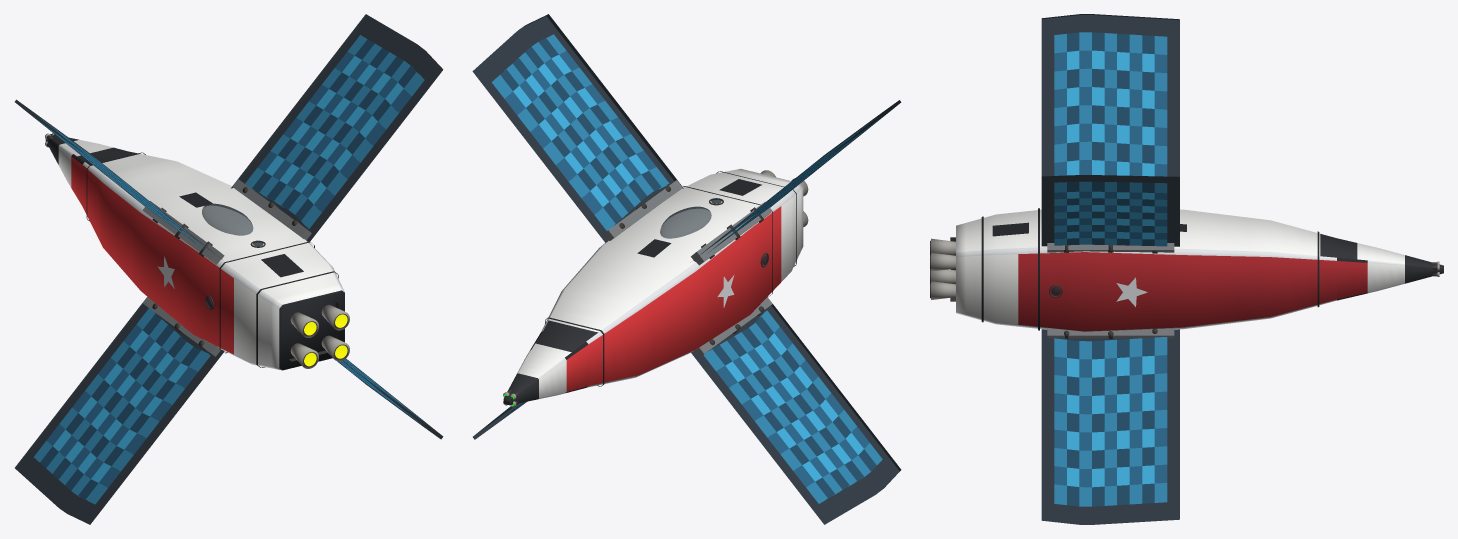
File: Ship_Crosspanel_5.glb
The picture shows the model from 3 angles, left to right: view 1: azimuth 30°, elevation 25°; view 2: azimuth 150°, elevation 25°; view 3: azimuth 270°, elevation 25°; orthographic projection. The views are drawn at different scales.
Parts seen in each view (by area): view 1: Fuselage_SquareBody, SolarPanelWing_TopRightRidge_RectangularPhotovoltaicGrid, SolarPanelWing_LowerLeftRidge_RectangularPhotovoltaicGrid, Nose_SquareTaperedForwardSection, SolarPanelWing_TopLeftRidge_RectangularPhotovoltaicGrid, Canopy_DorsalLowSquareBubble, SolarPanelWing_TopLeftRidge_RootHingeClamp, SolarPanelWing_TopRightRidge_RootHingeClamp, SolarPanelWing_LowerRightRidge_RectangularPhotovoltaicGrid, SolarPanelWing_LowerLeftRidge_RootHingeClamp, HullAccessPanel_TopAft, EngineEmitter; view 2: Fuselage_SquareBody, SolarPanelWing_TopRightRidge_RectangularPhotovoltaicGrid, SolarPanelWing_LowerLeftRidge_RectangularPhotovoltaicGrid, Nose_SquareTaperedForwardSection, SolarPanelWing_TopLeftRidge_RectangularPhotovoltaicGrid, Canopy_DorsalLowSquareBubble, SolarPanelWing_TopLeftRidge_RootHingeClamp, SolarPanelWing_TopRightRidge_RootHingeClamp, SolarPanelWing_LowerLeftRidge_RootHingeClamp; view 3: Fuselage_SquareBody, SolarPanelWing_LowerRightRidge_RectangularPhotovoltaicGrid, SolarPanelWing_TopLeftRidge_RectangularPhotovoltaicGrid, SolarPanelWing_TopRightRidge_RectangularPhotovoltaicGrid, Nose_SquareTaperedForwardSection, SolarPanelWing_LowerRightRidge_RootHingeClamp, SolarPanelWing_TopRightRidge_RootHingeClamp.
Part boxes in pixels (x1,y1,x2,y2): Fuselage_SquareBody: (82, 151, 344, 370); SolarPanelWing_TopRightRidge_RectangularPhotovoltaicGrid: (231, 14, 443, 241); SolarPanelWing_LowerLeftRidge_RectangularPhotovoltaicGrid: (15, 303, 224, 524); Nose_SquareTaperedForwardSection: (45, 134, 127, 205); SolarPanelWing_TopLeftRidge_RectangularPhotovoltaicGrid: (15, 99, 222, 259); Canopy_DorsalLowSquareBubble: (202, 203, 253, 235); SolarPanelWing_TopLeftRidge_RootHingeClamp: (142, 201, 224, 264); SolarPanelWing_TopRightRidge_RootHingeClamp: (232, 179, 311, 240); SolarPanelWing_LowerRightRidge_RectangularPhotovoltaicGrid: (337, 358, 443, 439); SolarPanelWing_LowerLeftRidge_RootHingeClamp: (142, 297, 221, 356); HullAccessPanel_TopAft: (261, 254, 303, 277); EngineEmitter: (304, 314, 347, 366); Fuselage_SquareBody: (541, 168, 803, 387); SolarPanelWing_TopRightRidge_RectangularPhotovoltaicGrid: (472, 14, 683, 242); SolarPanelWing_LowerLeftRidge_RectangularPhotovoltaicGrid: (691, 304, 901, 524); Nose_SquareTaperedForwardSection: (503, 331, 588, 405); SolarPanelWing_TopLeftRidge_RectangularPhotovoltaicGrid: (693, 100, 901, 260); Canopy_DorsalLowSquareBubble: (660, 206, 711, 238); SolarPanelWing_TopLeftRidge_RootHingeClamp: (691, 201, 772, 265); SolarPanelWing_TopRightRidge_RootHingeClamp: (603, 180, 682, 240); SolarPanelWing_LowerLeftRidge_RootHingeClamp: (694, 297, 772, 357); Fuselage_SquareBody: (956, 209, 1336, 331); SolarPanelWing_LowerRightRidge_RectangularPhotovoltaicGrid: (1041, 329, 1179, 524); SolarPanelWing_TopLeftRidge_RectangularPhotovoltaicGrid: (1041, 14, 1179, 176); SolarPanelWing_TopRightRidge_RectangularPhotovoltaicGrid: (1041, 175, 1179, 246); Nose_SquareTaperedForwardSection: (1337, 238, 1443, 300); SolarPanelWing_LowerRightRidge_RootHingeClamp: (1047, 328, 1174, 338); SolarPanelWing_TopRightRidge_RootHingeClamp: (1047, 243, 1174, 252).
Size of the model in its own units: 5.7 by 5.71 by 7.59.
